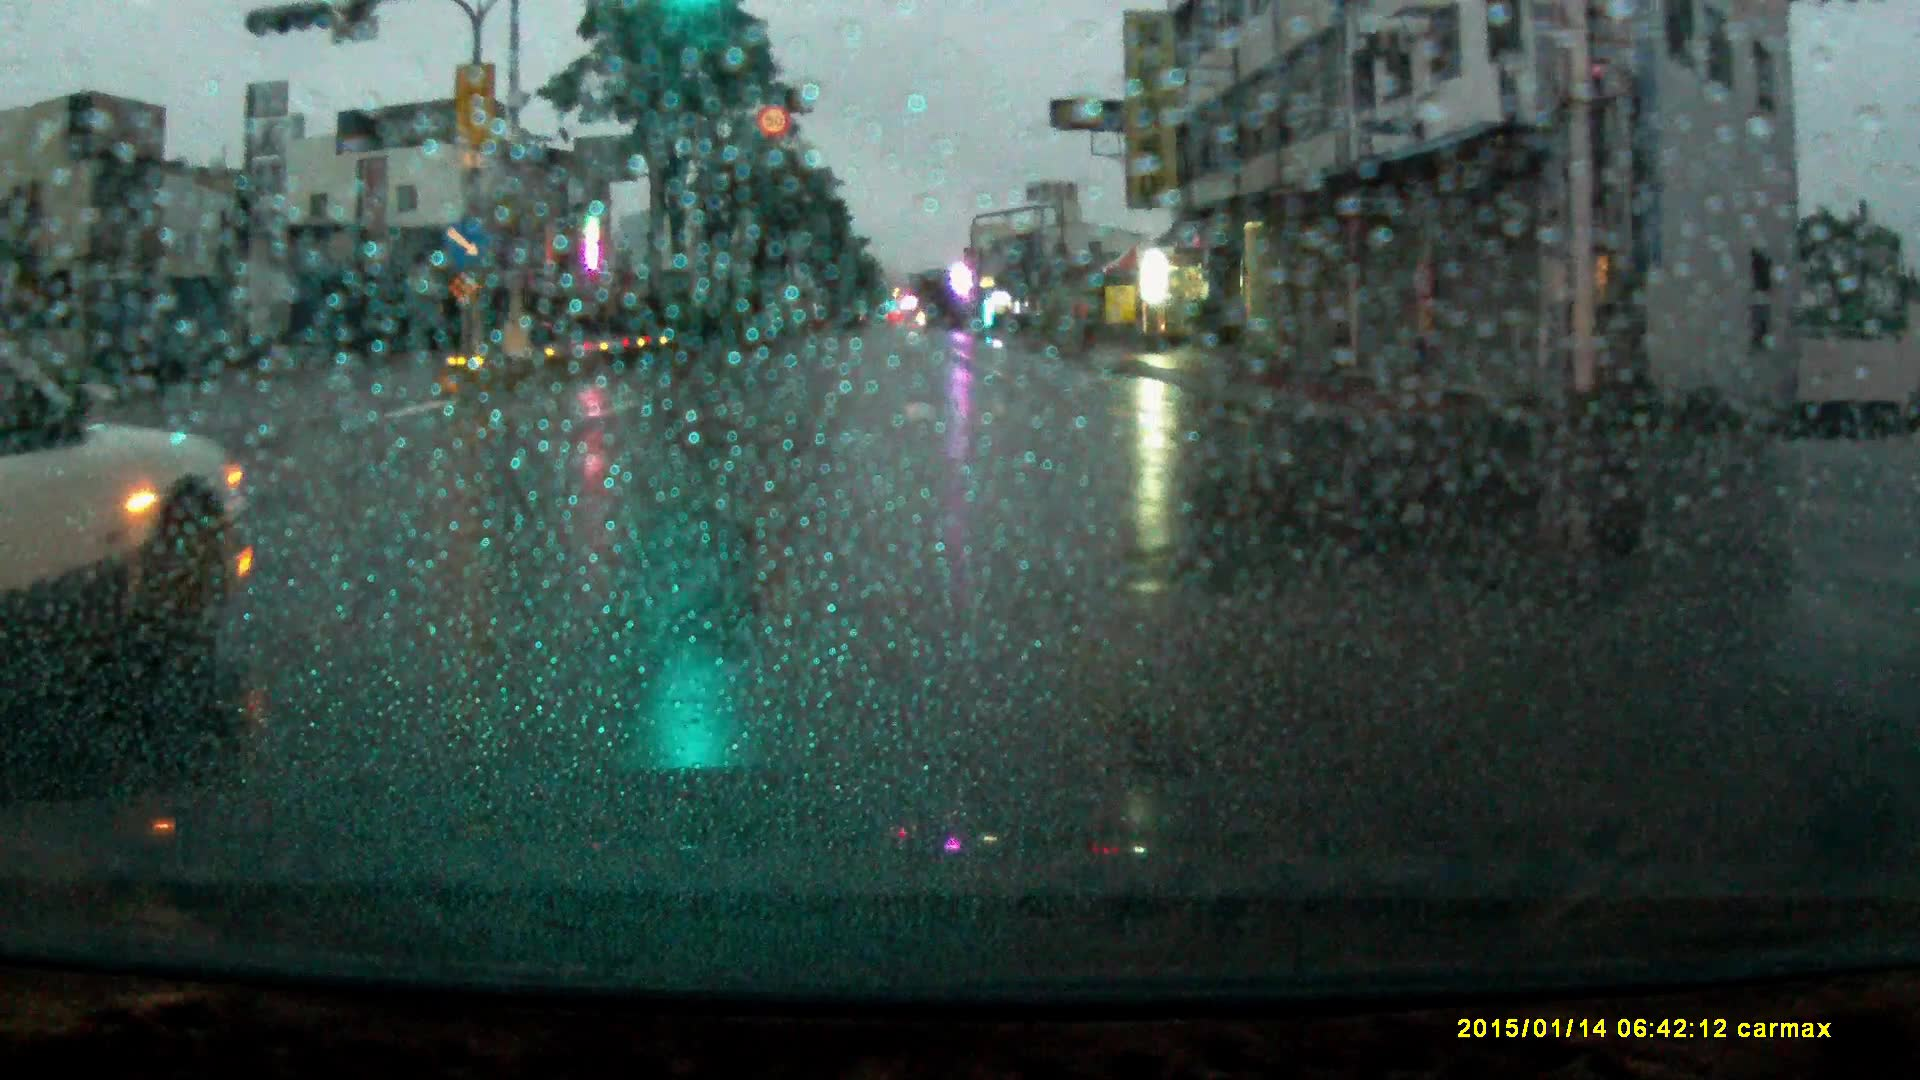vehicle: (1, 334, 253, 690)
